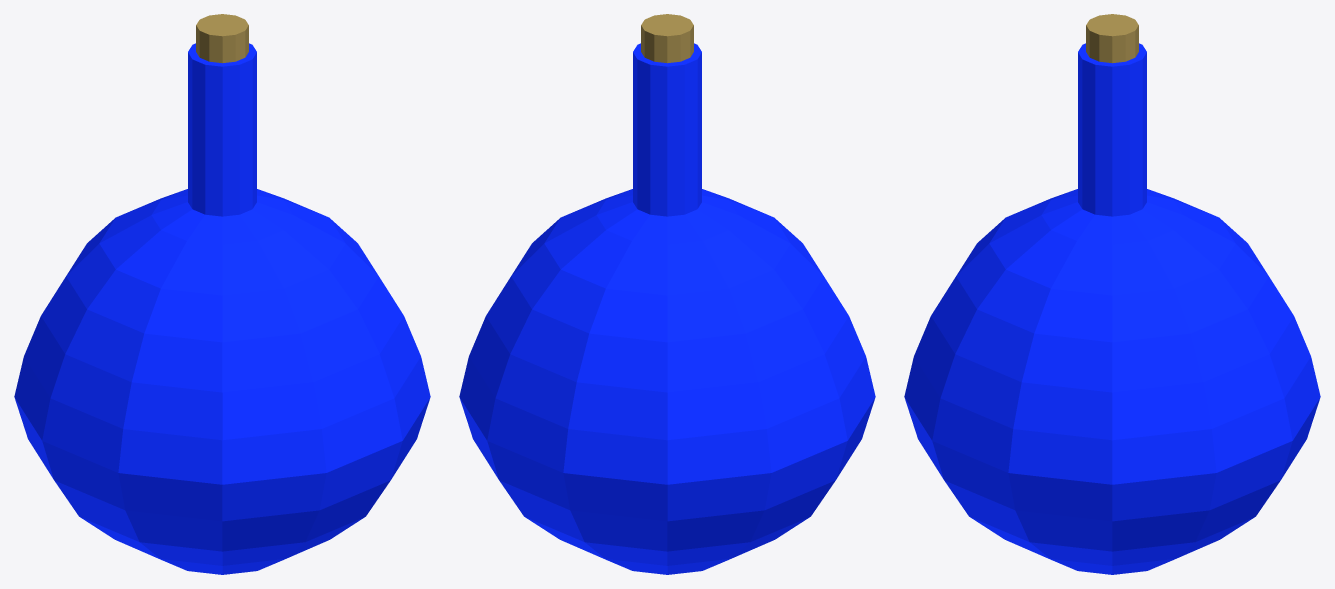
The model's file is potion_mp.glb.
3 renders of one model, left to right at view 1: azimuth 30°, elevation 25°; view 2: azimuth 150°, elevation 25°; view 3: azimuth 270°, elevation 25°, orthographic.
Parts seen in each view (by area): view 1: BigPotion_Stamina; view 2: BigPotion_Stamina; view 3: BigPotion_Stamina.
Part boxes in pixels (bbox=[...]): BigPotion_Stamina: bbox=[14, 14, 430, 574]; BigPotion_Stamina: bbox=[459, 14, 875, 574]; BigPotion_Stamina: bbox=[904, 14, 1320, 574].
Bounding box in the file's own units: 0.3574 × 0.4928 × 0.3574.
